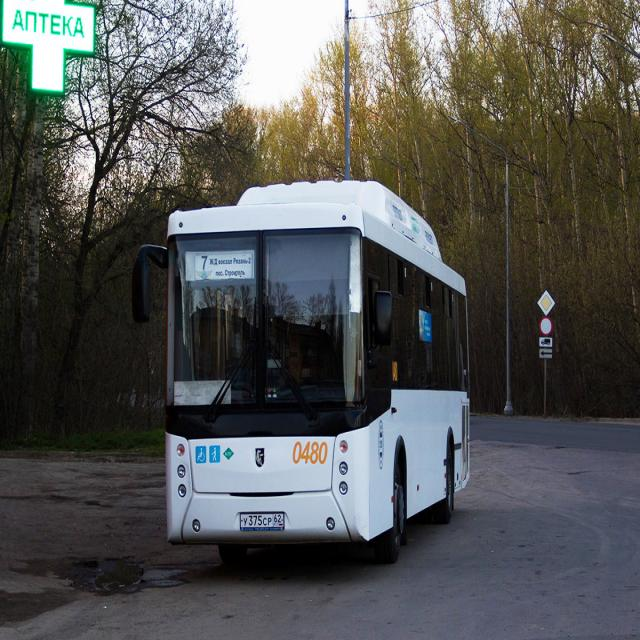number-of-bus: (202, 256, 209, 272)
